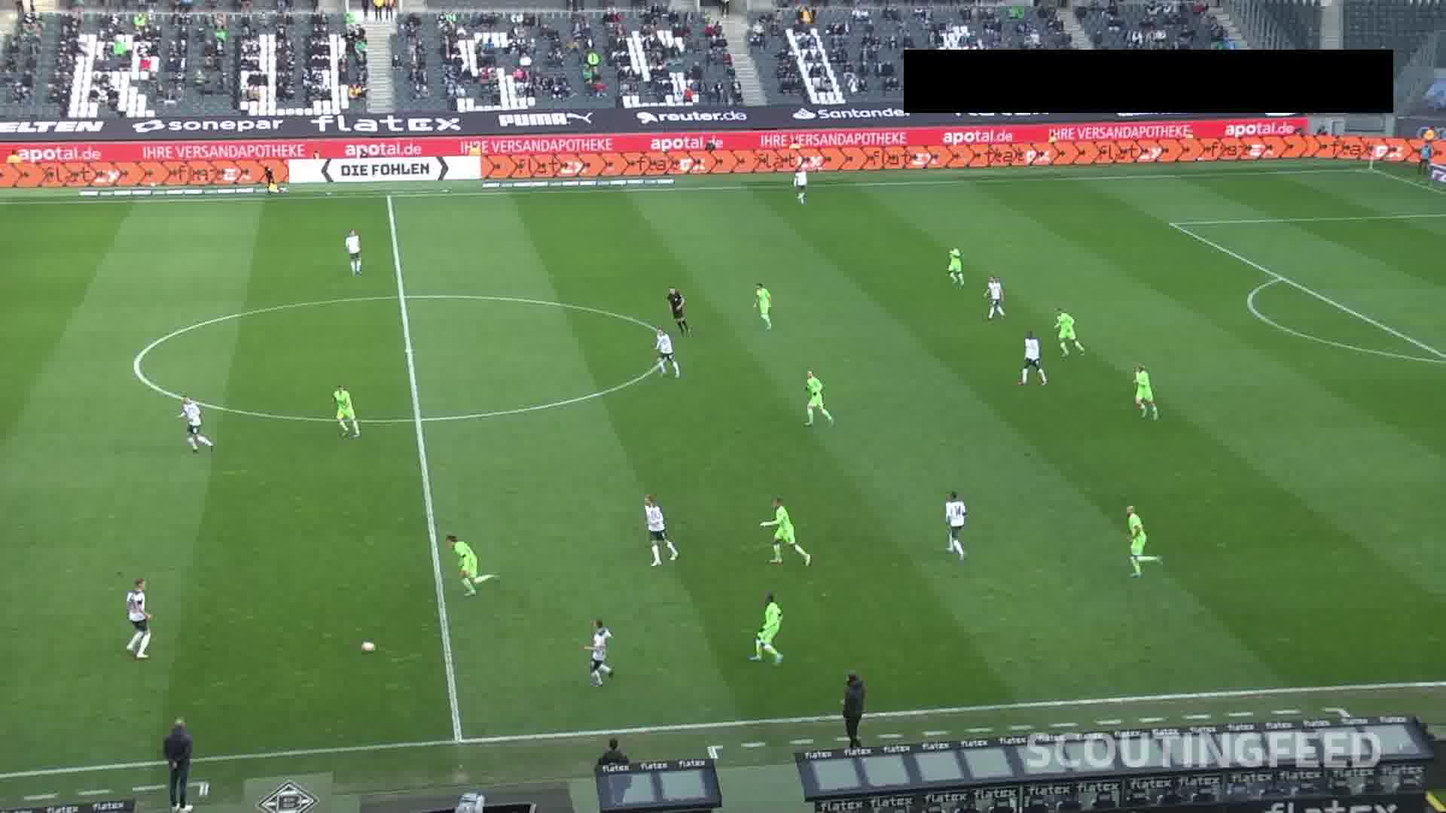ball: (356, 638, 382, 661)
coach_staff: (828, 670, 864, 753), (164, 716, 196, 808)
player: (765, 493, 816, 570), (637, 492, 684, 574), (448, 532, 499, 598), (121, 577, 158, 664), (1123, 502, 1165, 577), (752, 595, 789, 667), (937, 492, 976, 558), (646, 326, 690, 383), (175, 396, 213, 459), (584, 615, 616, 689), (798, 368, 835, 429), (1050, 300, 1088, 356), (333, 382, 365, 442), (1132, 365, 1166, 419), (750, 275, 779, 327), (343, 223, 368, 281), (1019, 326, 1042, 389), (940, 239, 967, 290), (982, 272, 1008, 321), (788, 163, 812, 208)
referee: (665, 279, 695, 330), (258, 161, 281, 201)
